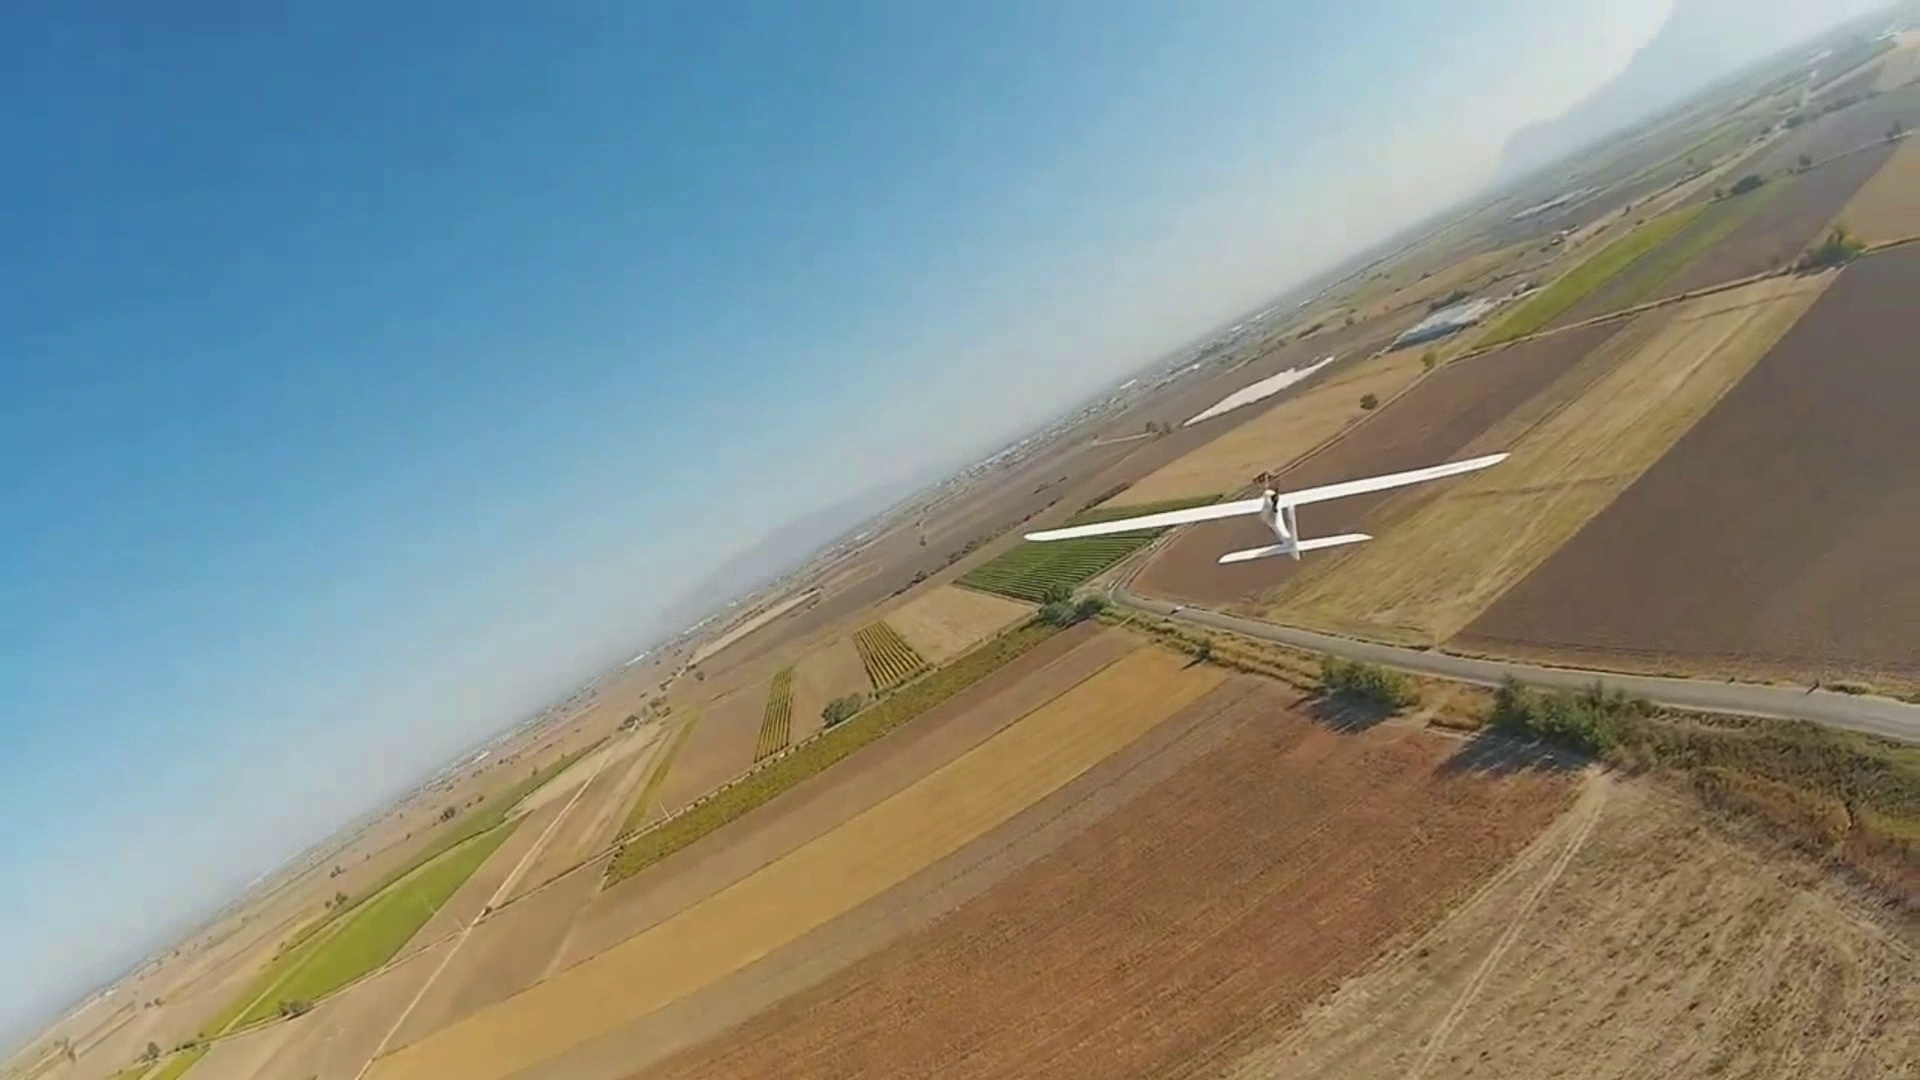airplane: (7, 26, 1919, 1072)
